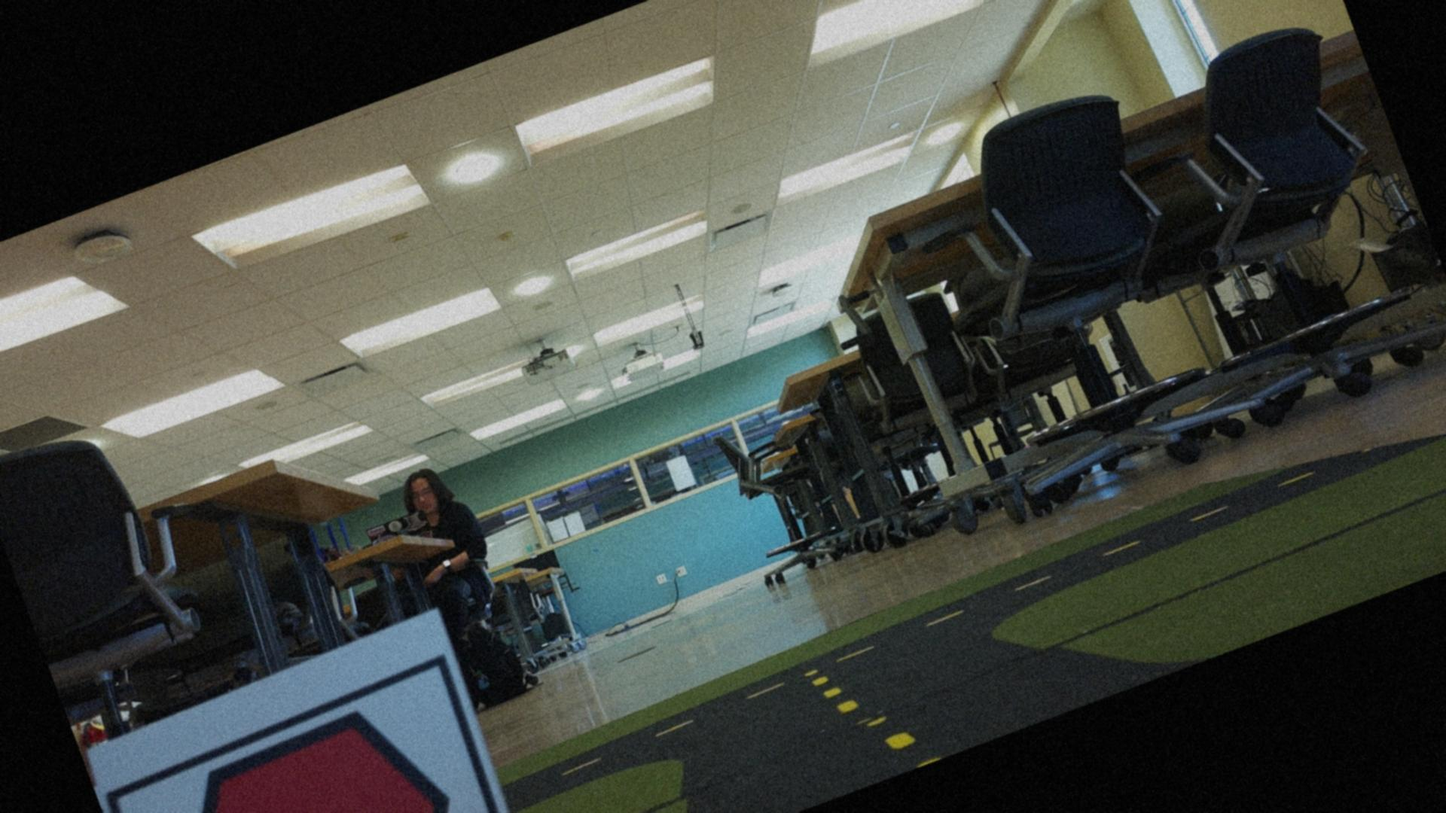stop: (121, 681, 513, 812)
yellowline: (813, 653, 914, 768)
